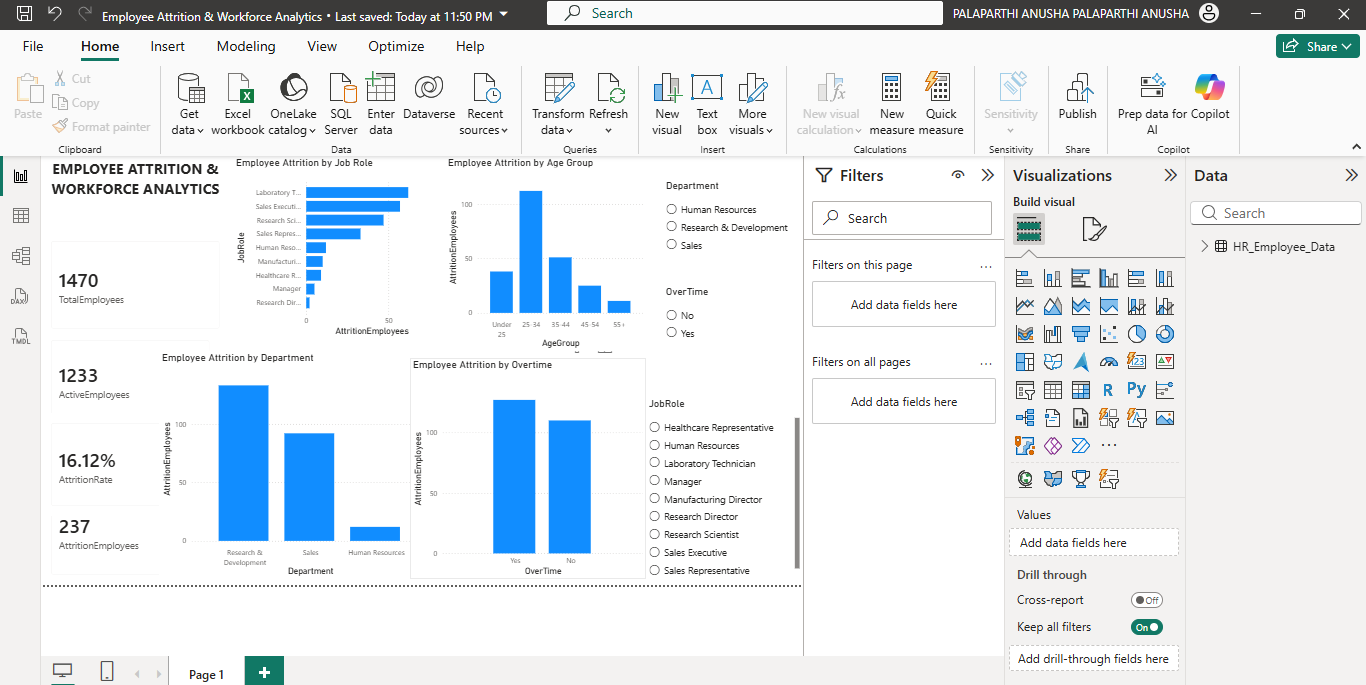

Layout of this report page (visuals, bound fields, positions):
{"tool":"powerbi","page":{"name":"Page 1","canvas":[1280,720],"ordinal":0},"visuals":[{"type":"cardVisual","fields":{"Data":["HR_Employee_Data.TotalEmployees"]},"box":[0,126,317.5,181.4],"z":0},{"type":"cardVisual","fields":{"Data":["HR_Employee_Data.ActiveEmployees"]},"box":[0,292.3,300.7,168],"z":1},{"type":"cardVisual","fields":{"Data":["HR_Employee_Data.AttritionEmployees"]},"box":[0,539.2,300.7,181.4],"z":2},{"type":"cardVisual","fields":{"Data":["HR_Employee_Data.AttritionRate"]},"box":[0,431.7,317.5,173],"z":3},{"type":"clusteredColumnChart","title":"Employee Attrition by Department","fields":{"Category":["HR_Employee_Data.Department"],"Y":["HR_Employee_Data.AttritionEmployees"]},"box":[198.2,327.6,458.6,383],"z":4},{"type":"clusteredBarChart","title":"Employee Attrition by Job Role","fields":{"Category":["HR_Employee_Data.JobRole"],"Y":["HR_Employee_Data.AttritionEmployees"]},"box":[198.2,0,458.6,307.4],"z":5},{"type":"listSlicer","fields":{"Values":["HR_Employee_Data.Department"]},"box":[1016.3,38.6,263.7,154.5],"z":6},{"type":"listSlicer","fields":{"Values":["HR_Employee_Data.OverTime"]},"box":[1023,216.7,252,159.6],"z":8},{"type":"listSlicer","fields":{"Values":["HR_Employee_Data.JobRole"]},"box":[1016.3,404.8,263.7,305.7],"z":9},{"type":"clusteredColumnChart","title":"Employee Attrition by Overtime","fields":{"Category":["HR_Employee_Data.OverTime"],"Y":["HR_Employee_Data.AttritionEmployees"]},"box":[619.8,339.3,396.4,371.2],"z":10},{"type":"clusteredColumnChart","title":"Employee Attrition by Age Group","fields":{"Category":["HR_Employee_Data.AgeGroup"],"Y":["HR_Employee_Data.AttritionEmployees"]},"box":[594.6,0,403.1,327.6],"z":11},{"type":"textbox","box":[0,0,317.5,77.3],"z":12}]}

Visuals, with their boxes on the page's 1280x720 design canvas (x1, y1, x2, y2). These are canvas units, not pixel positions in the 1366x685 screenshot, which may show the page scaled, cropped or inside an application window:
cardVisual - HR_Employee_Data.TotalEmployees: [left=0, top=126, right=318, bottom=307]
cardVisual - HR_Employee_Data.ActiveEmployees: [left=0, top=292, right=301, bottom=460]
cardVisual - HR_Employee_Data.AttritionEmployees: [left=0, top=539, right=301, bottom=721]
cardVisual - HR_Employee_Data.AttritionRate: [left=0, top=432, right=318, bottom=605]
"Employee Attrition by Department" clusteredColumnChart: [left=198, top=328, right=657, bottom=711]
"Employee Attrition by Job Role" clusteredBarChart: [left=198, top=0, right=657, bottom=307]
listSlicer - HR_Employee_Data.Department: [left=1016, top=39, right=1280, bottom=193]
listSlicer - HR_Employee_Data.OverTime: [left=1023, top=217, right=1275, bottom=376]
listSlicer - HR_Employee_Data.JobRole: [left=1016, top=405, right=1280, bottom=710]
"Employee Attrition by Overtime" clusteredColumnChart: [left=620, top=339, right=1016, bottom=710]
"Employee Attrition by Age Group" clusteredColumnChart: [left=595, top=0, right=998, bottom=328]
textbox: [left=0, top=0, right=318, bottom=77]
